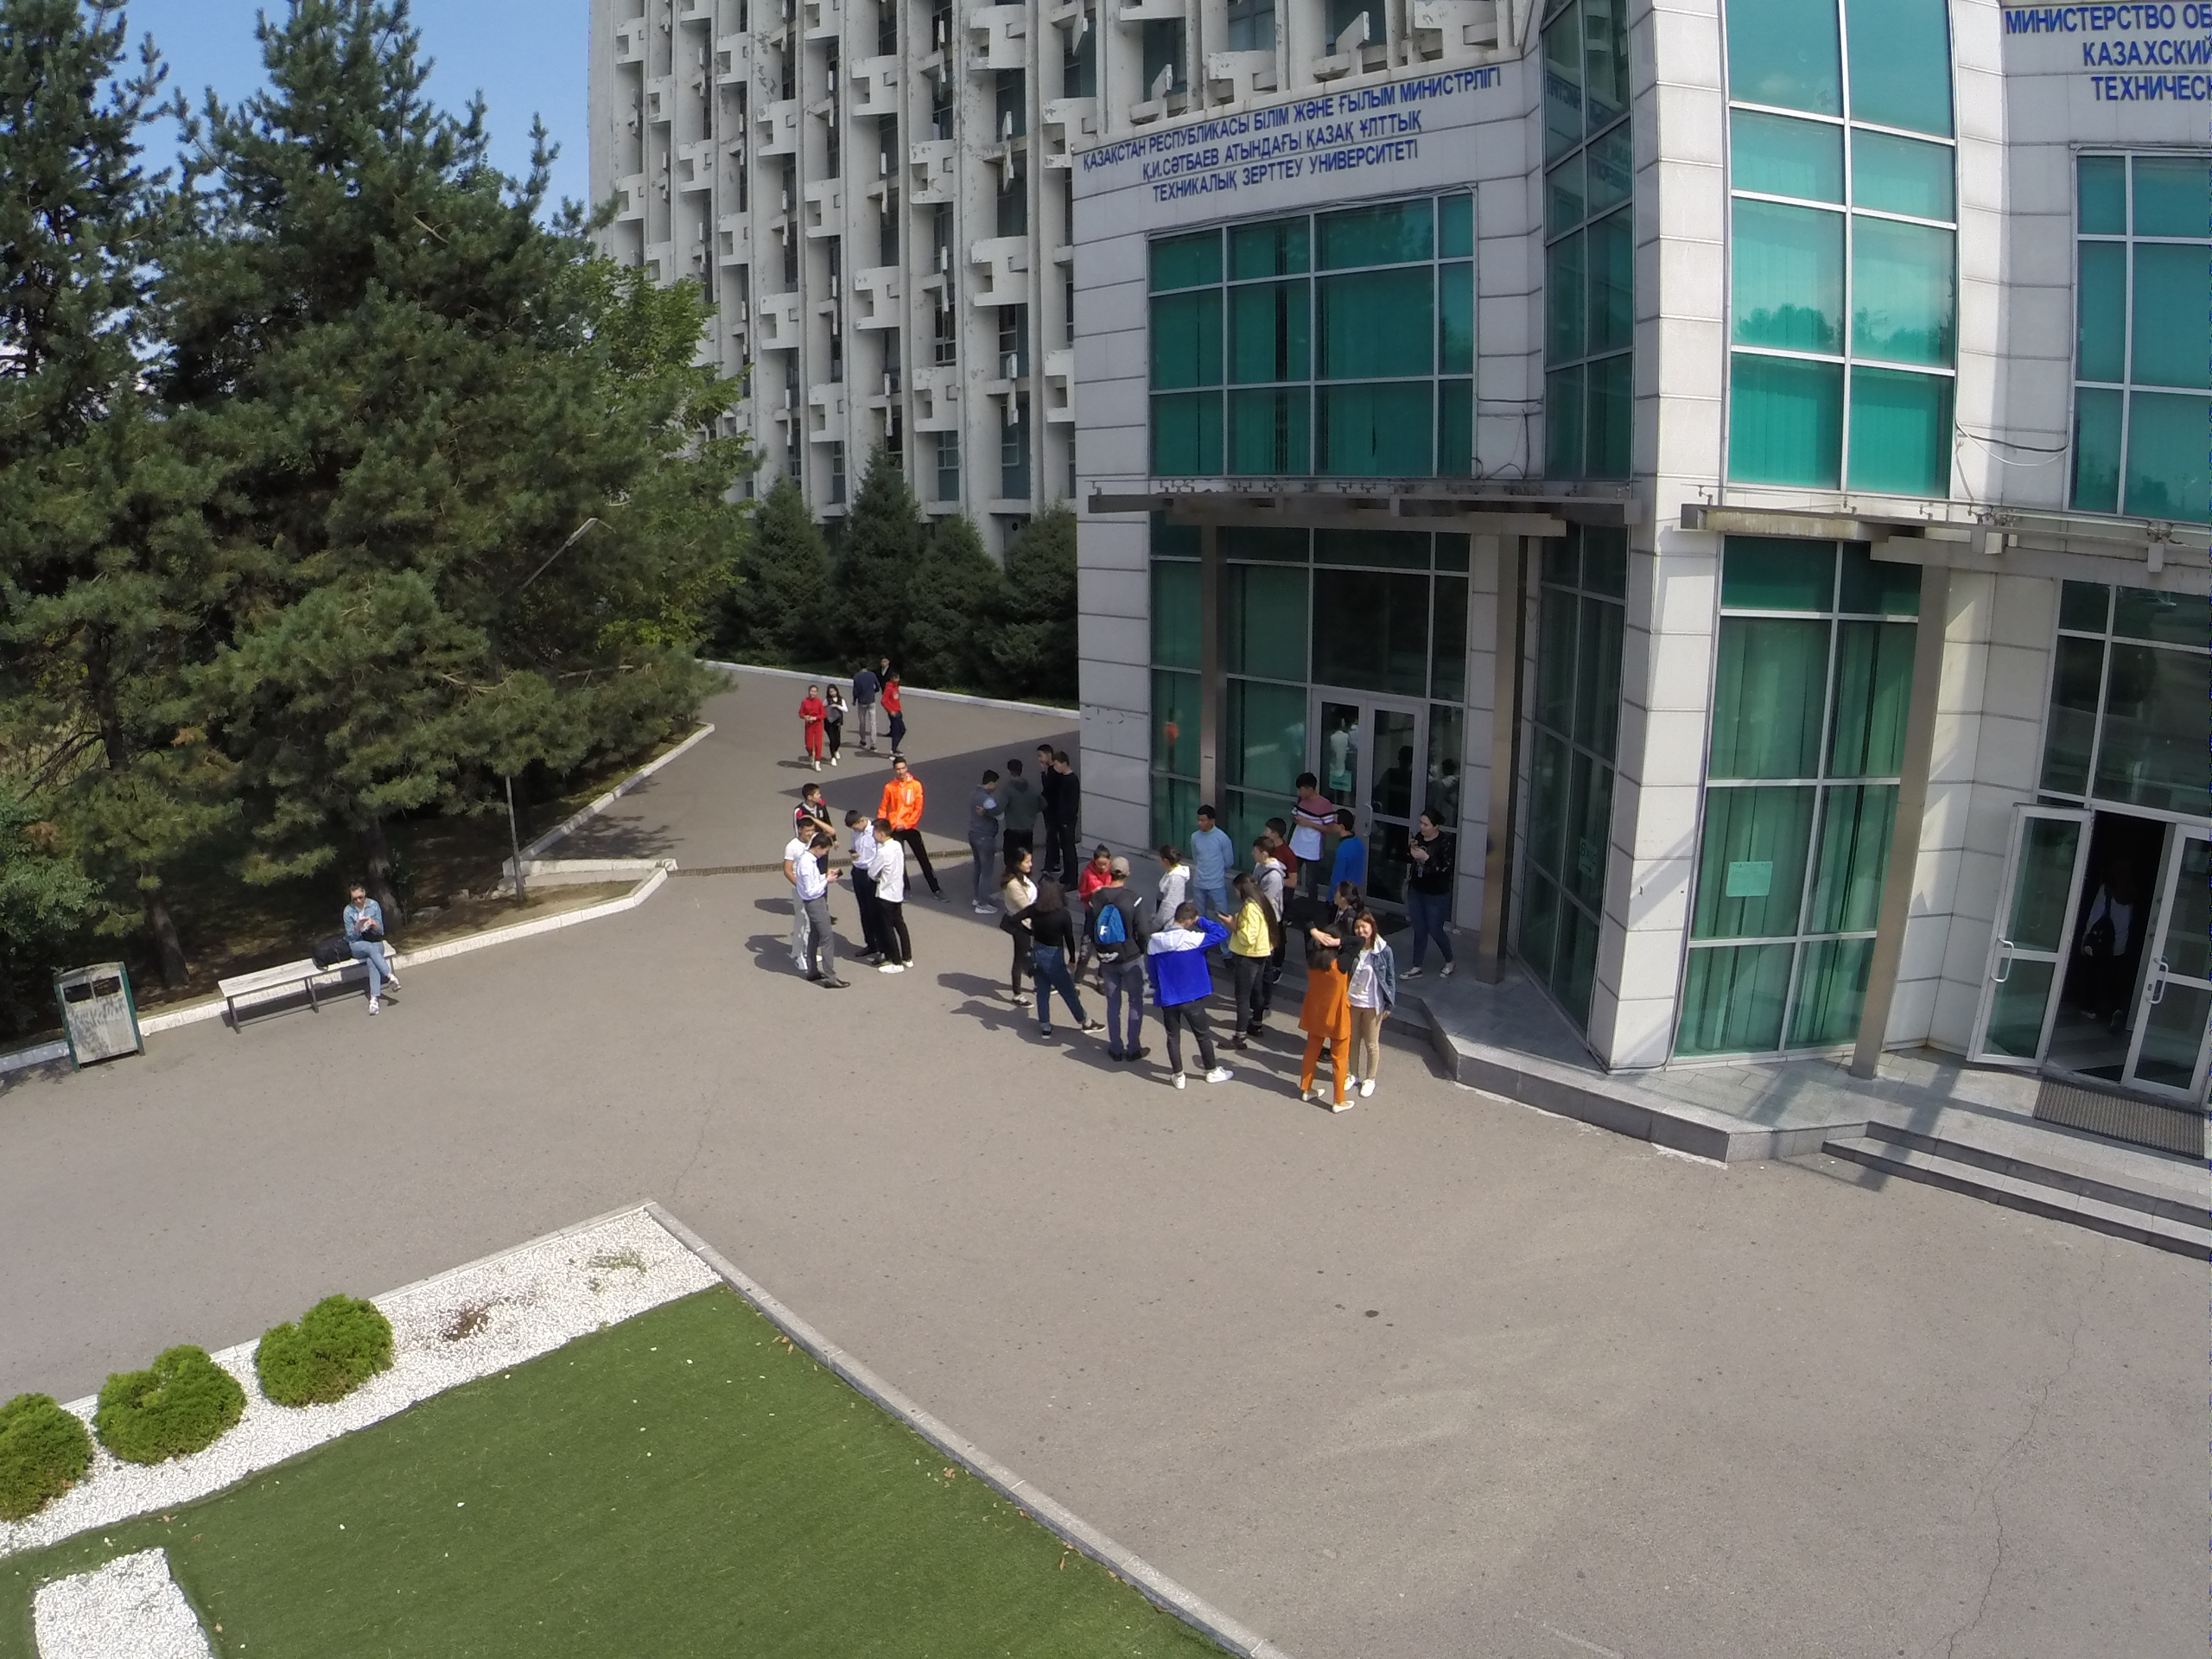person: (1153, 904, 1234, 1090), (1024, 877, 1100, 1040), (1099, 858, 1157, 1062), (1295, 919, 1354, 1111), (1338, 910, 1395, 1102), (1399, 811, 1463, 982), (1217, 865, 1274, 1056), (2082, 850, 2134, 1035), (337, 880, 401, 1023), (893, 766, 949, 908), (798, 830, 845, 997), (866, 819, 913, 978), (1003, 844, 1041, 1006), (967, 769, 1004, 918), (1189, 804, 1235, 918), (1048, 750, 1086, 880), (997, 759, 1037, 859), (1283, 772, 1326, 861), (1322, 802, 1370, 880), (1142, 836, 1185, 911), (1248, 838, 1286, 912), (843, 812, 869, 908), (851, 659, 876, 747), (824, 685, 846, 766), (885, 673, 907, 752), (801, 685, 818, 768), (802, 782, 834, 825)
